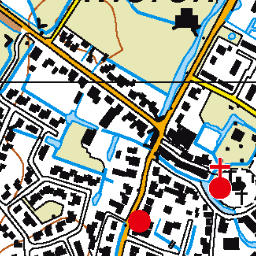church: (205, 155, 234, 204)
